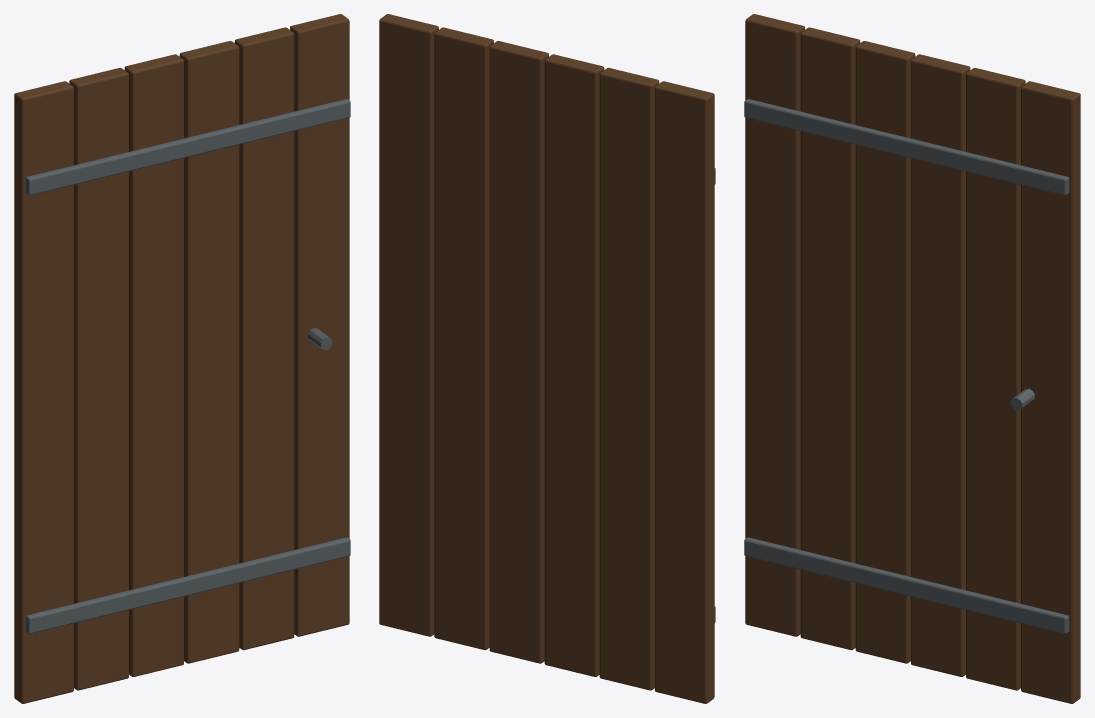
Rendered from Door.glb.
3 renders of one model, left to right at view 1: azimuth 30°, elevation 25°; view 2: azimuth 150°, elevation 25°; view 3: azimuth 330°, elevation 25°, orthographic.
Visible parts, largest first — view 1: Door; view 2: Door; view 3: Door.
Part boxes in pixels (<box>): Door: <box>14,14,350,703</box>; Door: <box>379,14,715,703</box>; Door: <box>744,14,1080,703</box>.
Bounding box in the file's own units: 1.19 × 2.1 × 0.1575.
